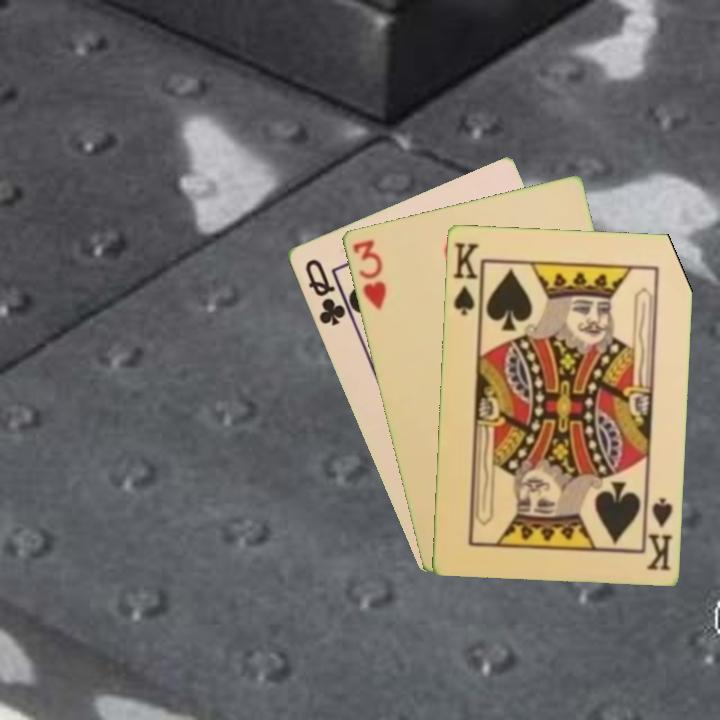3h: (349, 235, 389, 312)
Ks: (449, 238, 484, 319), (641, 490, 675, 573)
Qc: (300, 255, 348, 329)
